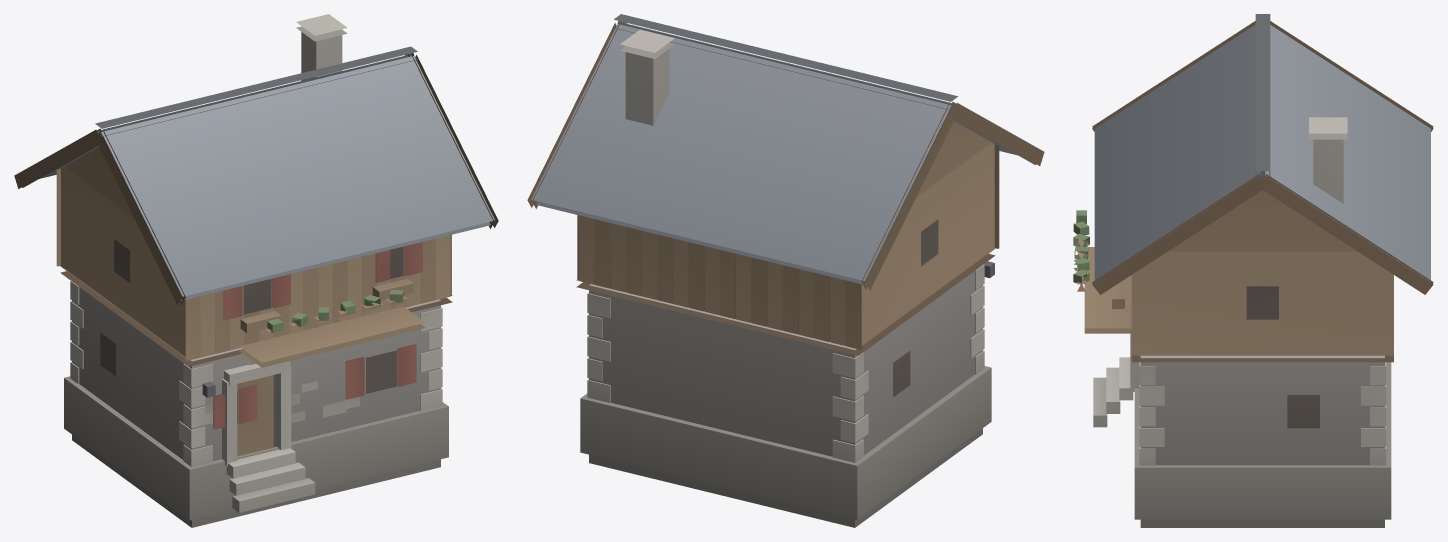
The model's file is vl_house_a.lod.glb.
The picture shows the model from 3 angles, left to right: view 1: azimuth 30°, elevation 25°; view 2: azimuth 150°, elevation 25°; view 3: azimuth 270°, elevation 25°; orthographic projection. The views are drawn at different scales.
Visible parts, largest first — view 1: vl_house_a; view 2: vl_house_a; view 3: vl_house_a.
Part boxes in pixels (box(x1,y1,x2,y2)): vl_house_a: box(14, 14, 498, 527); vl_house_a: box(527, 14, 1044, 527); vl_house_a: box(1073, 14, 1433, 527).
Bounding box in the file's own units: 9.16 × 10.53 × 8.85.
